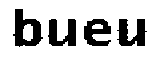b: (11, 4, 44, 50)
e: (82, 17, 113, 50)
u: (46, 15, 80, 49), (116, 16, 149, 51)
